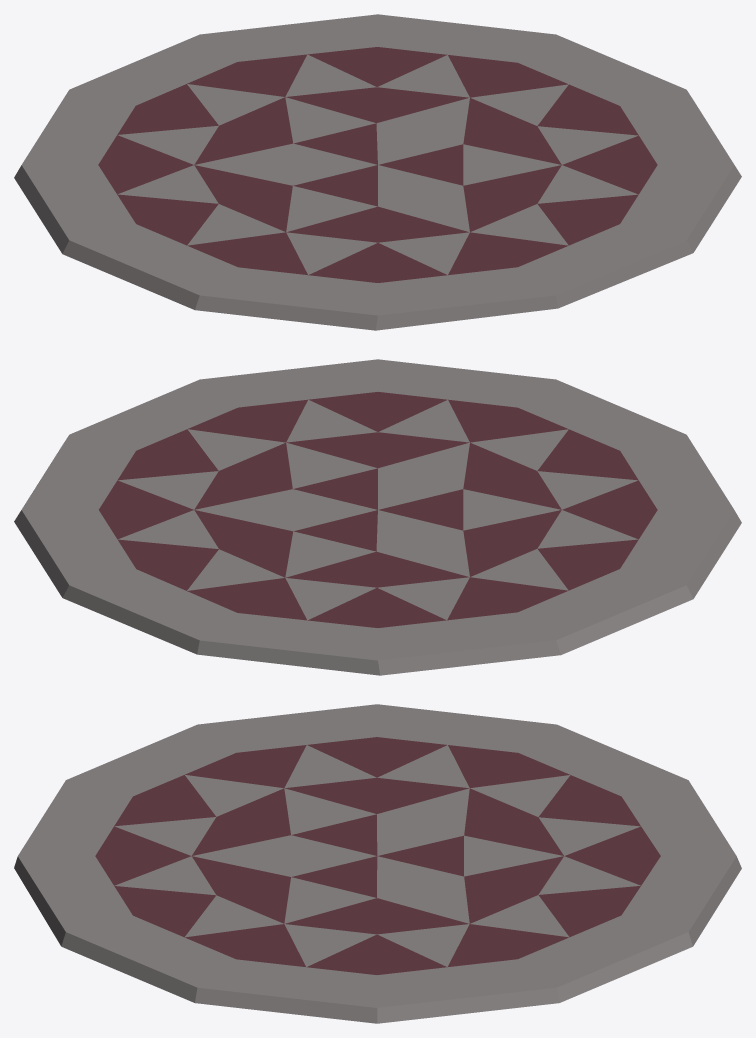
File: rug-circle.fbx
The picture shows the model from 3 angles, top to bottom: view 1: azimuth 30°, elevation 25°; view 2: azimuth 150°, elevation 25°; view 3: azimuth 270°, elevation 25°; orthographic projection.
Visible parts, largest first — view 1: rug-circle; view 2: rug-circle; view 3: rug-circle.
Part boxes in pixels (x1,y1,x2,y2): rug-circle: (14,14,741,330); rug-circle: (14,359,741,675); rug-circle: (14,704,741,1023).
Bounding box in the file's own units: 1.61 × 0.03 × 1.6.
